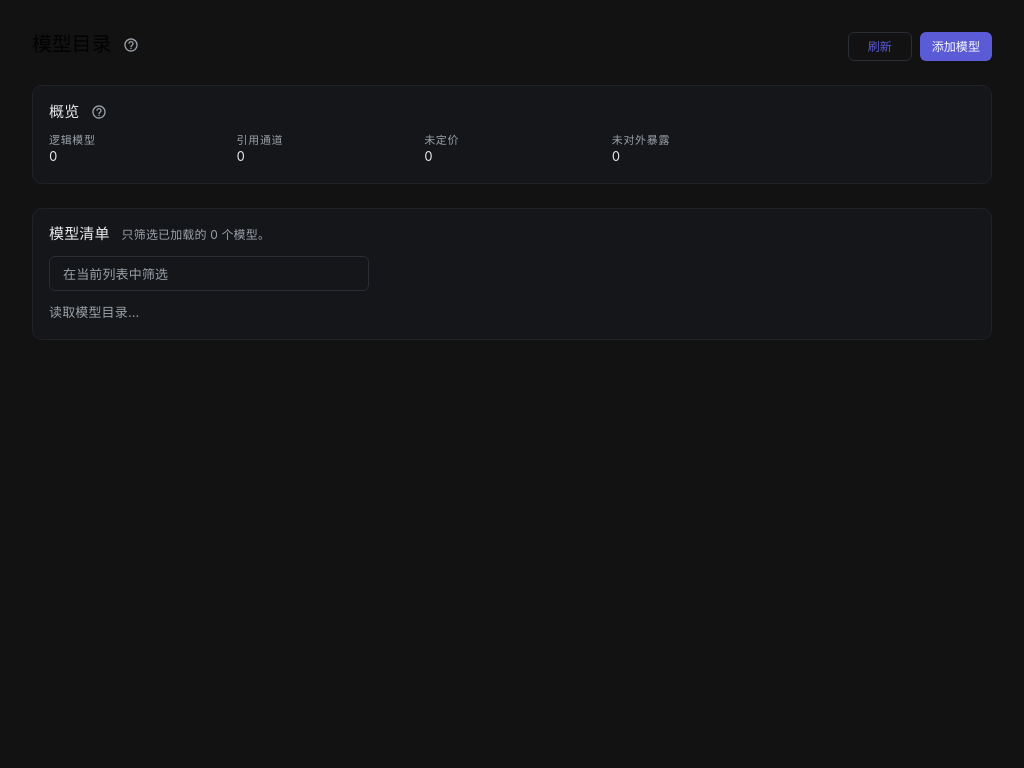
Test: ⑧ /models 添加模型向导：先分配线路 → 真的调 model_upsert → 显示后端返回值 › 页头有「添加模型」入口；点开后向导的控件一个不少（含线路选择），testid 不许改名
Click the button with test id "models-add-open". click: point(956, 47)
box: [920,32,992,61]
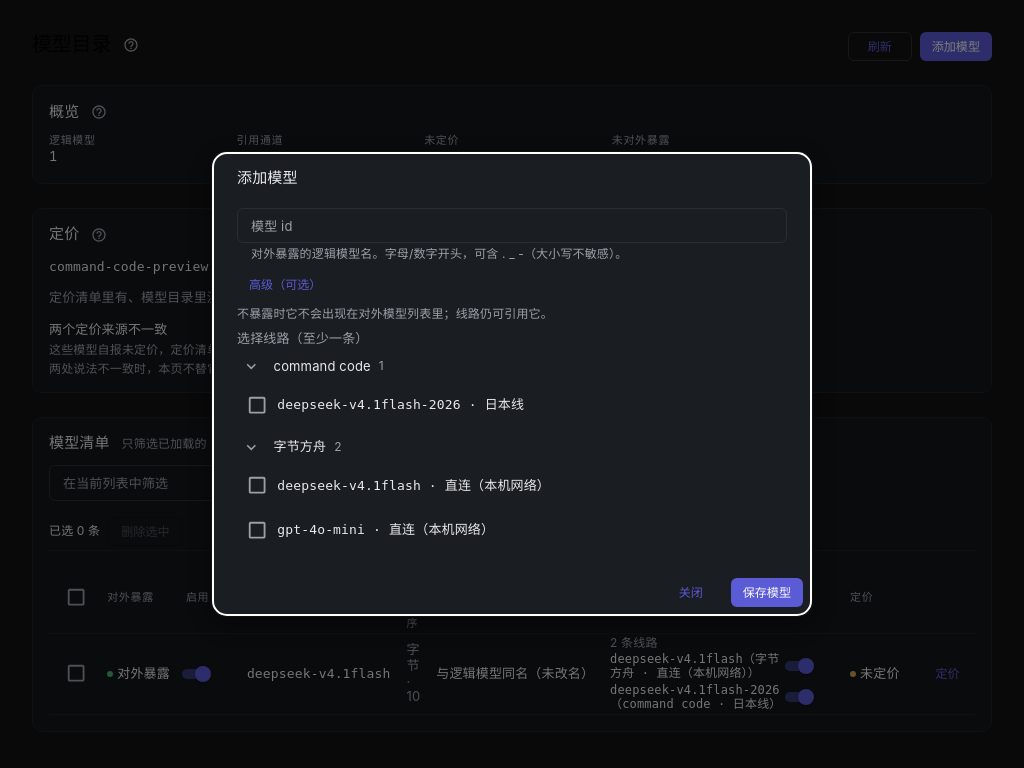
Now the element with test id "models-add-id" is shown, box [237,208,787,262]
Now the element with test id "models-add-lines" is shown, box [237,330,550,541]
Now the button with test id "models-add-submit" is shown, box [731,578,803,607]
Click the button with test id "models-add-advanced-toggle". click: point(285, 284)
box: [237,270,333,299]
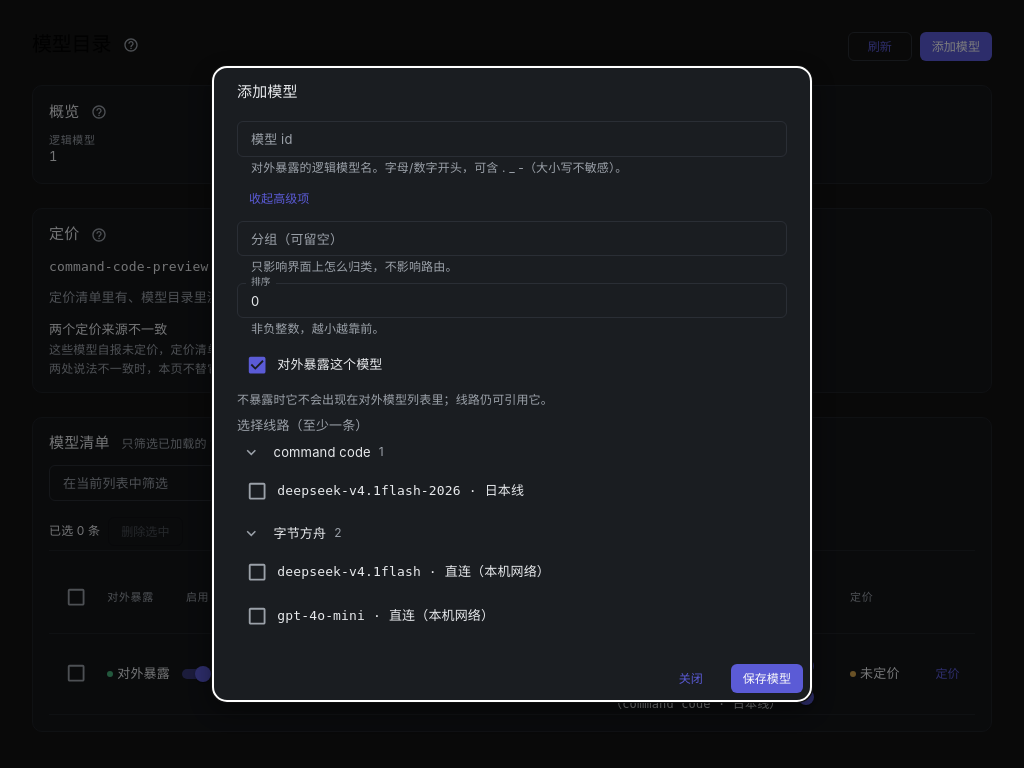
Now the element with test id "models-add-group" is shown, box [237,221,787,275]
Now the element with test id "models-add-order" is shown, box [237,283,787,337]
Now the element with test id "models-add-expose" is shown, box [246,354,268,376]
